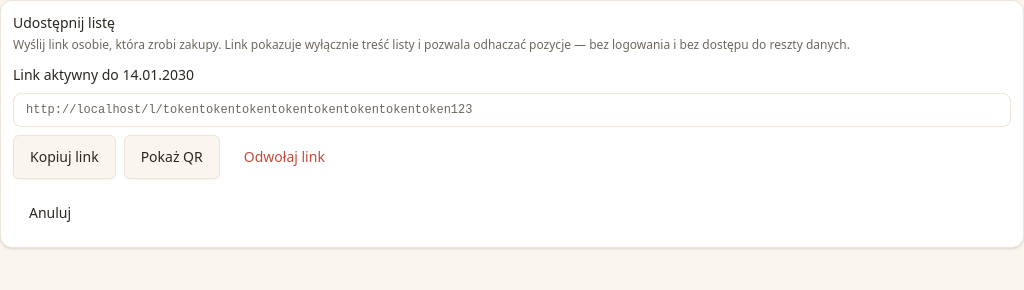
it: ShareListDialog › kopiowanie wkłada do schowka PEŁNY adres
This screenshot has width=1024, height=290.
Click the button with test id "share-copy" at (64, 157), box [13,135,116,179]
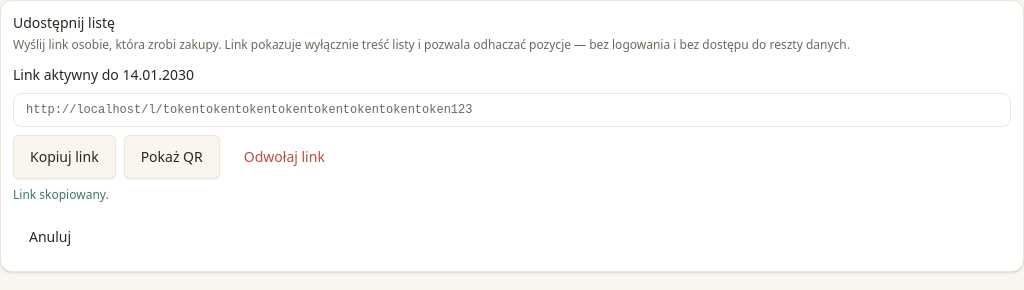
Result: the message "Link skopiowany." is shown at [13,186,109,203]
